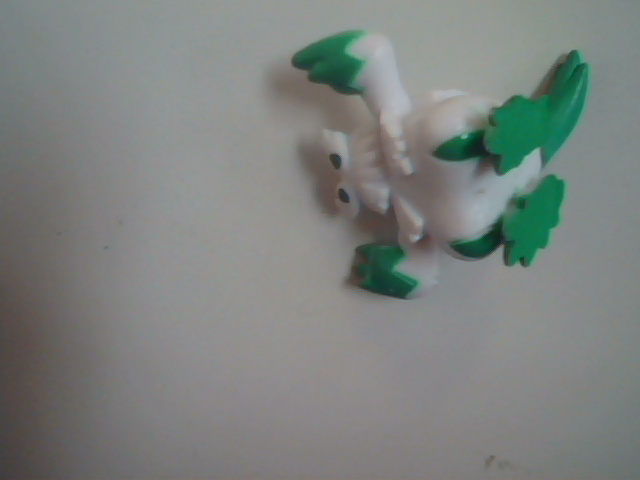abomasnow: (273, 22, 603, 322)
